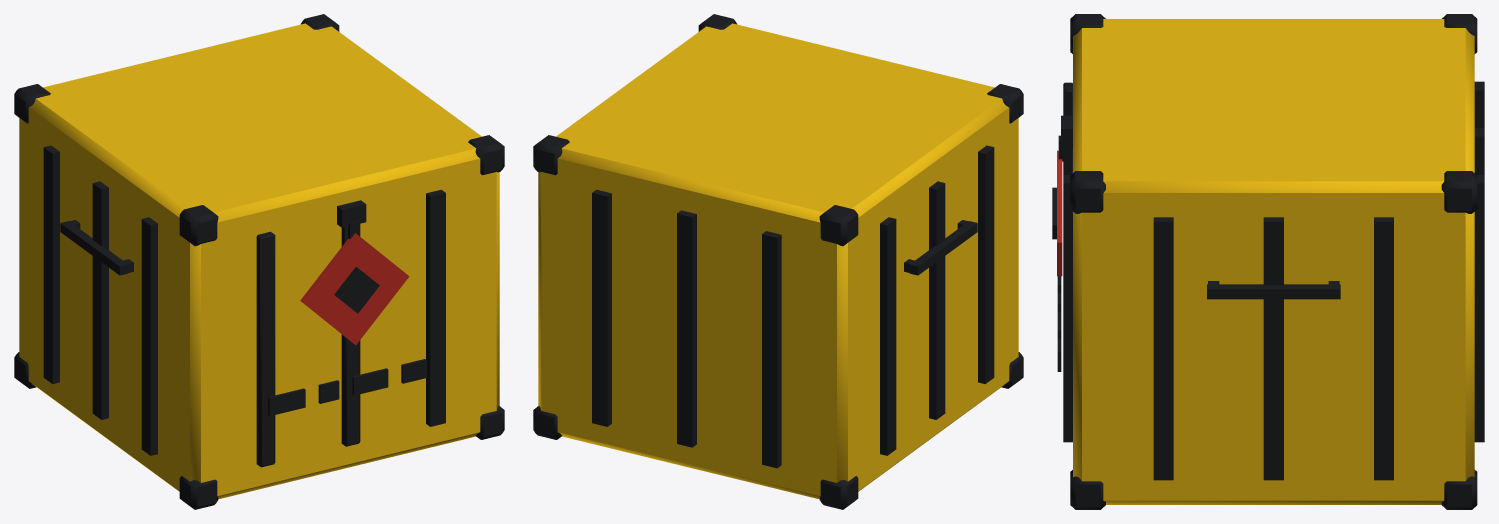
File: crate_hazard_yellow.glb
The picture shows the model from 3 angles, left to right: view 1: azimuth 30°, elevation 25°; view 2: azimuth 150°, elevation 25°; view 3: azimuth 270°, elevation 25°; orthographic projection. The views are drawn at different scales.
Parts seen in each view (by area): view 1: crate_hazard_yellow; view 2: crate_hazard_yellow; view 3: crate_hazard_yellow.
Boxes of the visible parts, bbox=[...] form: crate_hazard_yellow: bbox=[14, 14, 504, 509]; crate_hazard_yellow: bbox=[533, 14, 1023, 509]; crate_hazard_yellow: bbox=[1052, 14, 1484, 509].
Bounding box in the file's own units: 0.985 × 0.812 × 0.968.
